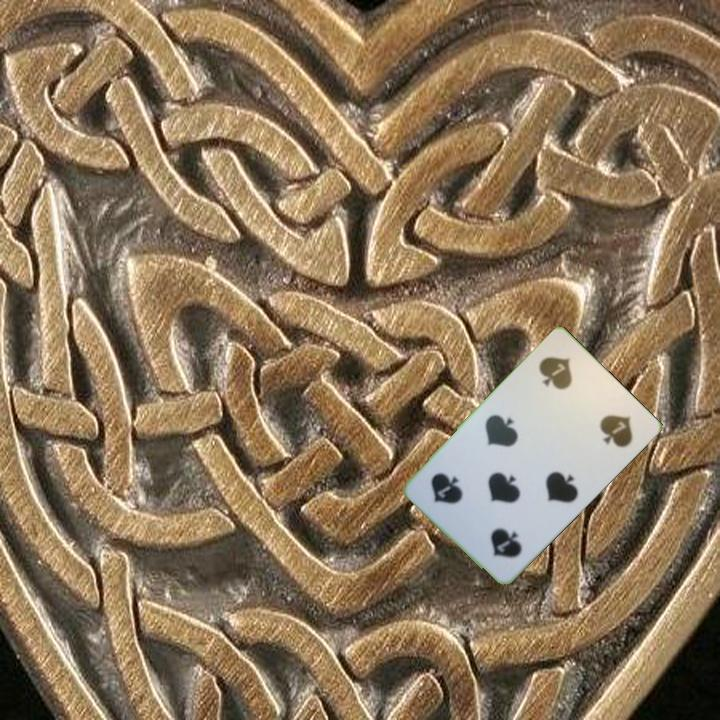s_7.png: (456, 490, 542, 576), (520, 338, 606, 424)
